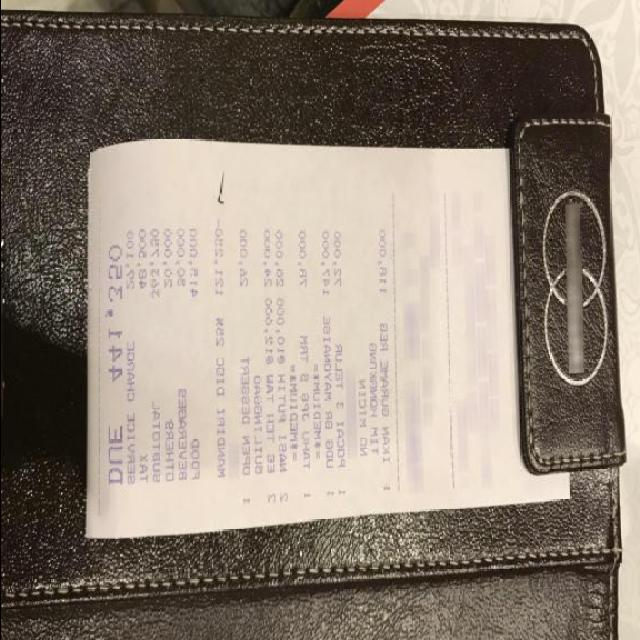kertas: (86, 140, 569, 538)
